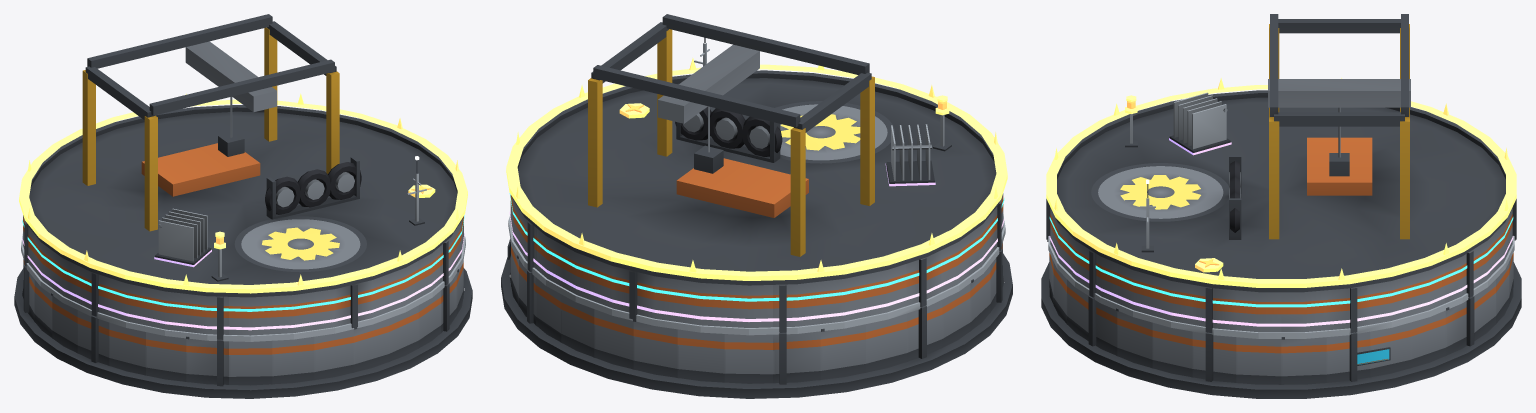
The model's file is parts_works_s.glb.
3 views of the same model, side by side, from view 1: azimuth 30°, elevation 25°; view 2: azimuth 150°, elevation 25°; view 3: azimuth 270°, elevation 25° (orthographic). The views are drawn at different scales.
Visible parts, largest first — view 1: Roof, Base, L4, Wall_21, Wall_20, Wall_22, Wall_19, Wall_23, Wall_18, Wall_24, Upper_20, Upper_23 (+27 smaller); view 2: Roof, Base, Wall_10, Wall_11, Wall_09, Wall_12, Wall_08, L4, Wall_13, Wall_07, Upper_11, Upper_10 (+32 smaller); view 3: Roof, Base, L4, Wall_00, Wall_31, Wall_30, Wall_01, Wall_29, Upper_00, Upper_31, Wall_28, Wall_03 (+29 smaller).
Part boxes in pixels (x1,y1,x2,y2): Roof: (26, 14, 462, 297); Base: (14, 268, 472, 398); L4: (154, 208, 211, 267); Wall_21: (229, 341, 272, 385); Wall_20: (186, 336, 228, 386); Wall_22: (272, 336, 314, 384); Wall_19: (145, 332, 186, 381); Wall_23: (314, 329, 353, 380); Wall_18: (109, 322, 145, 375); Wall_24: (353, 318, 388, 372); Upper_20: (186, 294, 228, 339); Upper_23: (314, 285, 355, 329); Roof: (512, 14, 999, 285); Base: (501, 253, 1012, 398); Wall_10: (724, 334, 772, 383); Wall_11: (773, 331, 820, 384); Wall_09: (677, 329, 724, 382); Wall_12: (820, 324, 865, 379); Wall_08: (633, 319, 677, 377); L4: (885, 124, 935, 186); Wall_13: (866, 313, 906, 372); Wall_07: (594, 309, 633, 369); Upper_11: (773, 281, 820, 332); Upper_10: (725, 284, 772, 327); Roof: (1056, 14, 1506, 292); Base: (1041, 262, 1521, 398); L4: (1169, 92, 1231, 155); Wall_00: (1281, 337, 1326, 384); Wall_31: (1236, 337, 1281, 384); Wall_30: (1192, 331, 1236, 382); Wall_01: (1326, 331, 1370, 382); Wall_29: (1152, 323, 1192, 377); Upper_00: (1281, 290, 1326, 332); Upper_31: (1236, 290, 1281, 332); Wall_28: (1116, 308, 1152, 368); Wall_03: (1410, 310, 1445, 368).
Bounding box in the file's own units: 11.74 × 6.33 × 11.74.
